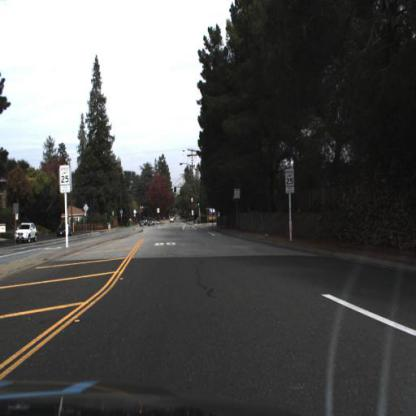car: (15, 221, 39, 246), (56, 220, 74, 239), (146, 215, 157, 229)
trafficLight-Green: (196, 196, 203, 209), (174, 185, 179, 197)
